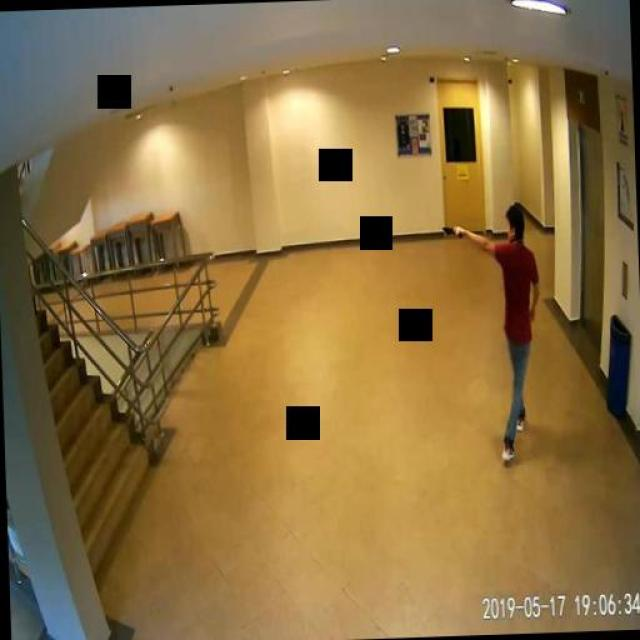gun: (441, 222, 461, 238)
